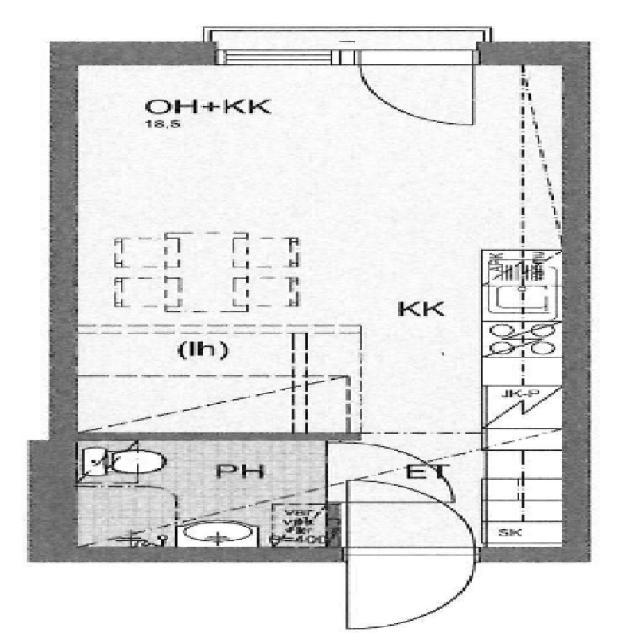door: (336, 473, 495, 629), (362, 40, 481, 134), (320, 442, 449, 502)
window: (222, 42, 341, 73)
zone: (59, 58, 554, 444), (67, 429, 328, 558)
